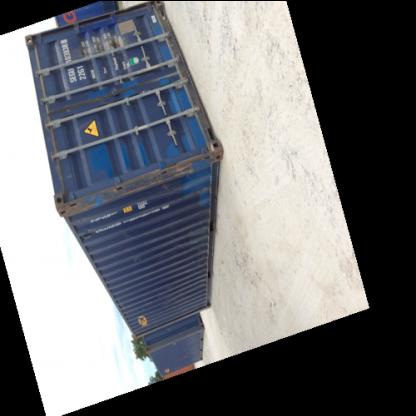Damage: (111, 165, 191, 197), (52, 186, 116, 218)
